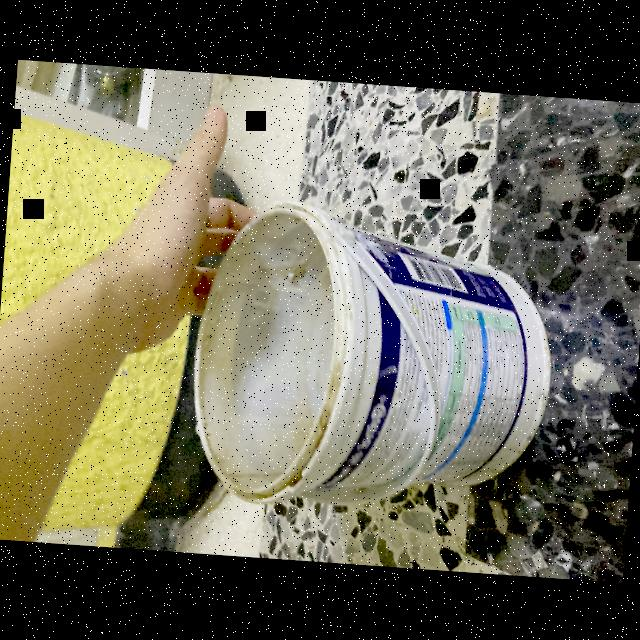paint_bucket: (174, 192, 562, 528)
